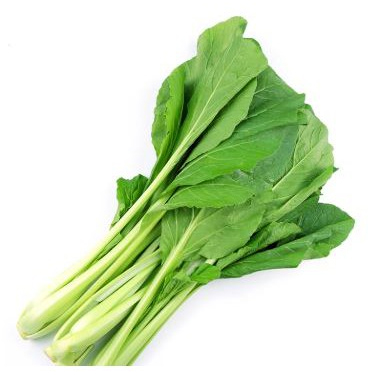Sawi: (32, 28, 324, 368)
